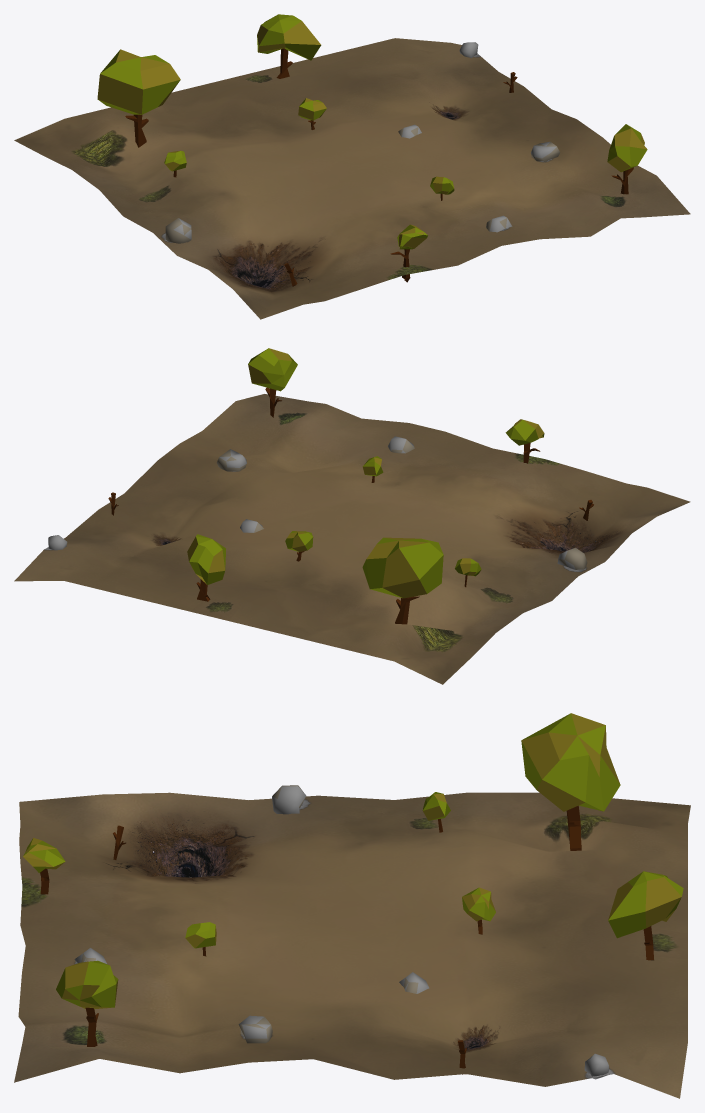
Rendered from Ground.fbx.
The picture shows the model from 3 angles, top to bottom: view 1: azimuth 30°, elevation 25°; view 2: azimuth 150°, elevation 25°; view 3: azimuth 270°, elevation 25°; orthographic projection. The views are drawn at different scales.
Parts seen in each view (by area): view 1: Grid, Sphere.004, Sphere.006, Sphere.007, Sphere.002, Sphere.008, Sphere.010; view 2: Grid, Sphere.004, Sphere.007, Sphere.006, Sphere.008; view 3: Grid, Sphere.004, Sphere.006, Sphere.007, Sphere.008, Sphere.010, Sphere.002, Sphere, Sphere.009, Sphere.005.
Boxes of the visible parts, box(x1,y1,x2,y2) form: Grid: box(14, 38, 690, 319); Sphere.004: box(97, 49, 180, 114); Sphere.006: box(257, 14, 321, 60); Sphere.007: box(607, 124, 647, 172); Sphere.002: box(165, 218, 191, 243); Sphere.008: box(397, 224, 427, 249); Sphere.010: box(298, 98, 326, 120); Grid: box(14, 394, 690, 684); Sphere.004: box(362, 537, 443, 598); Sphere.007: box(248, 348, 297, 391); Sphere.006: box(187, 534, 225, 584); Sphere.008: box(505, 419, 544, 445); Grid: box(14, 792, 690, 1098); Sphere.004: box(521, 713, 620, 811); Sphere.006: box(608, 871, 683, 938); Sphere.007: box(56, 960, 118, 1009); Sphere.008: box(23, 838, 65, 872); Sphere.010: box(462, 887, 495, 921); Sphere.002: box(272, 785, 306, 814); Sphere: box(238, 1015, 272, 1043); Sphere.009: box(185, 922, 216, 948); Sphere.005: box(422, 792, 450, 820).
Size of the model in its own units: 1894 by 520 by 1886.
